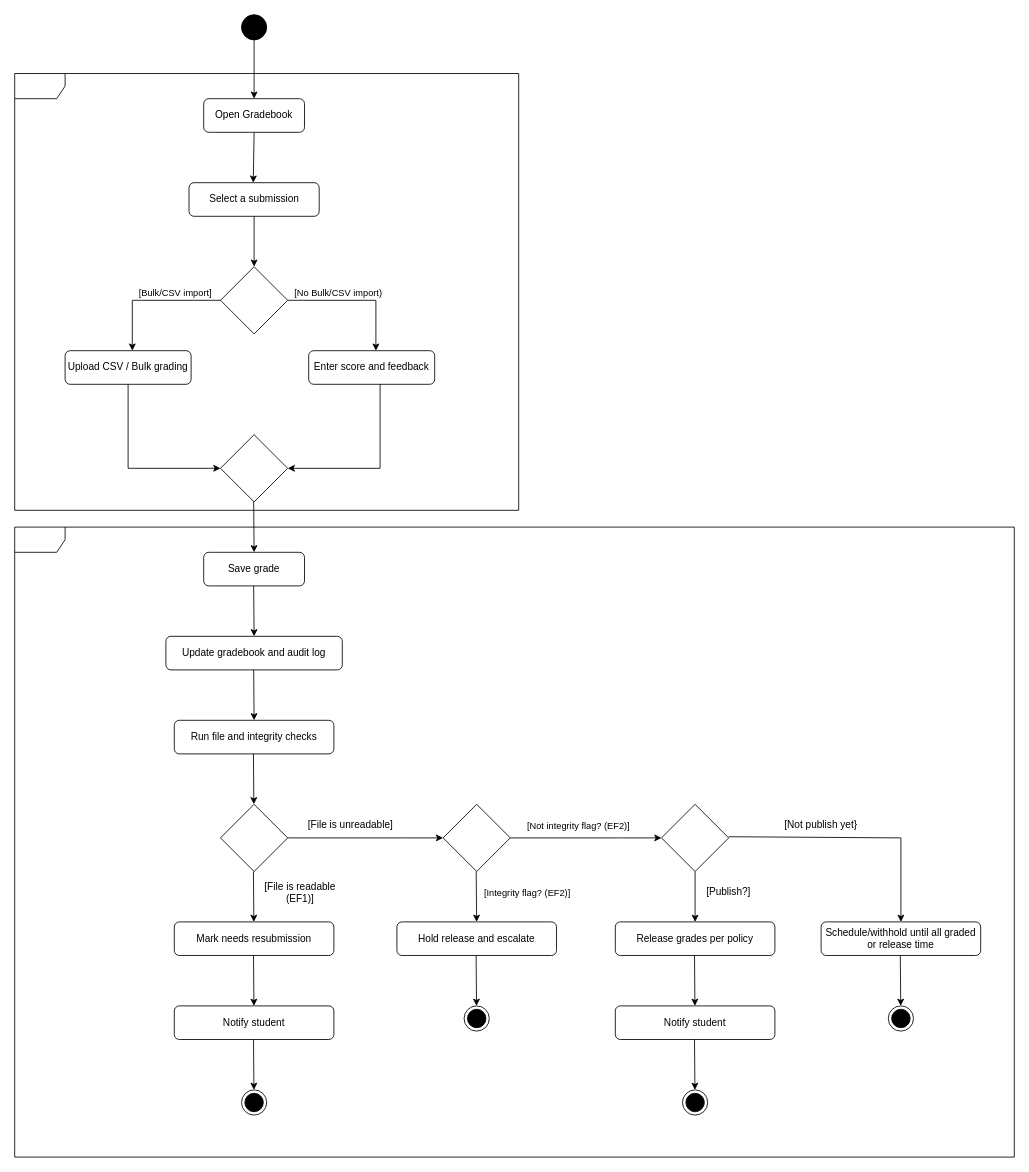
Some shapes in this 1029 by 1172 pixel diagram are drawn without their labels. The centre of each missing label's shape, as x and y in pixels:
System: the point at 514,841
Tutor: the point at 266,291
